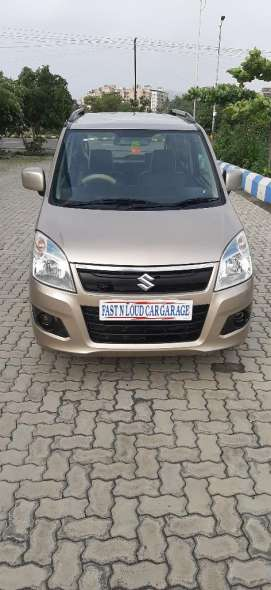license_plate: (100, 299, 193, 321)
